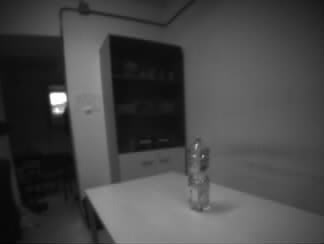Bottle: (185, 135, 212, 214)
